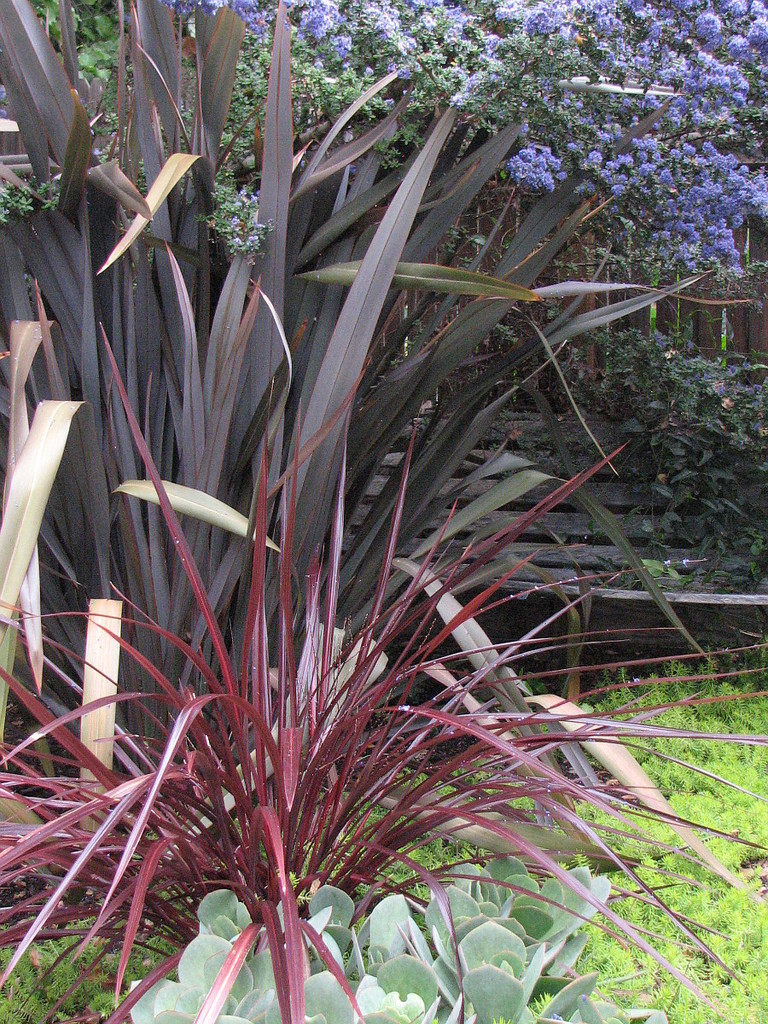Tree: (0, 0, 768, 317)
